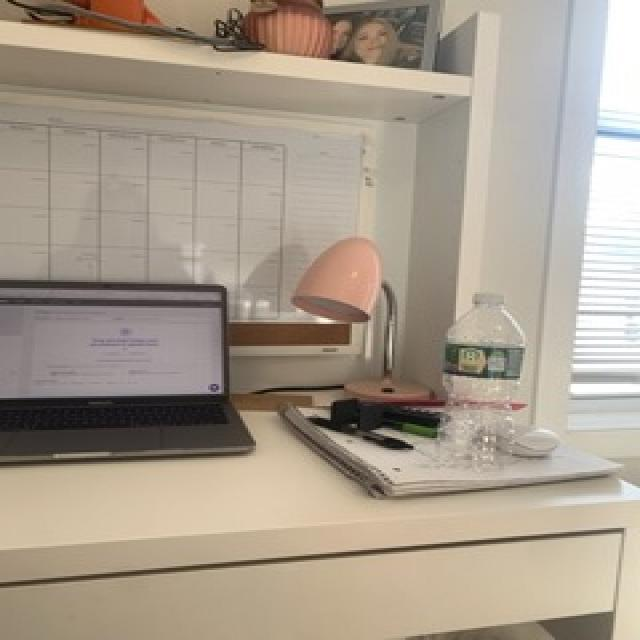water_bottle: (433, 290, 528, 475)
